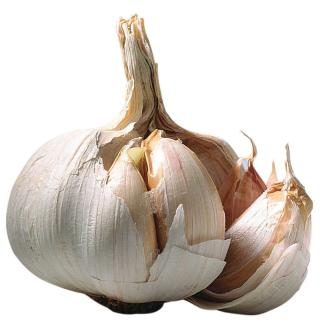Bawang Putih: (23, 23, 308, 320)
